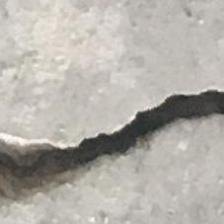Crack: (0, 75, 224, 190)
